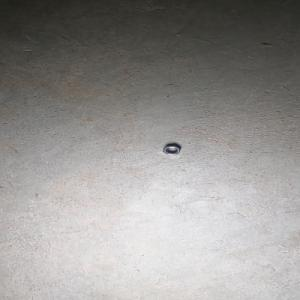Nut: (162, 145, 181, 156)
